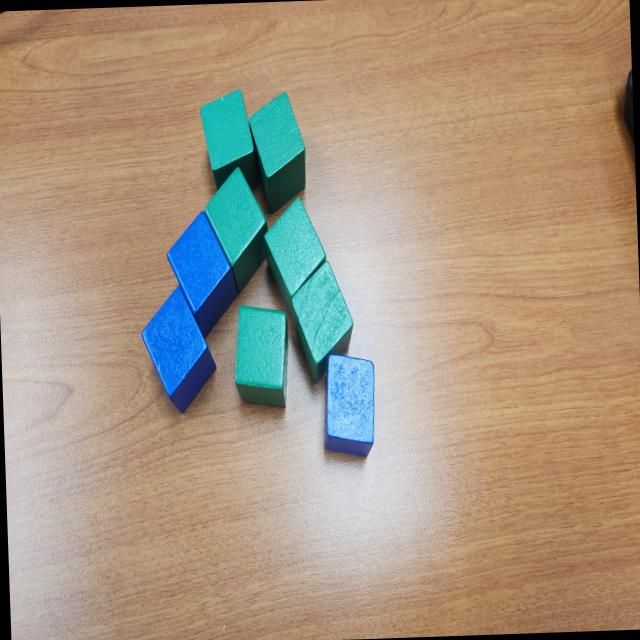blue: (140, 284, 218, 414), (166, 210, 239, 340), (322, 352, 378, 458)
green: (203, 164, 271, 294), (289, 258, 356, 387), (261, 196, 329, 322), (247, 90, 307, 214), (231, 302, 291, 409), (198, 86, 257, 192)
